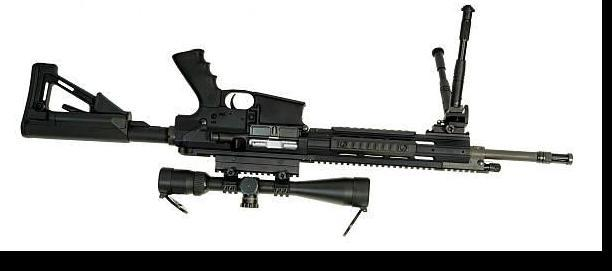larga: (21, 4, 574, 238)
